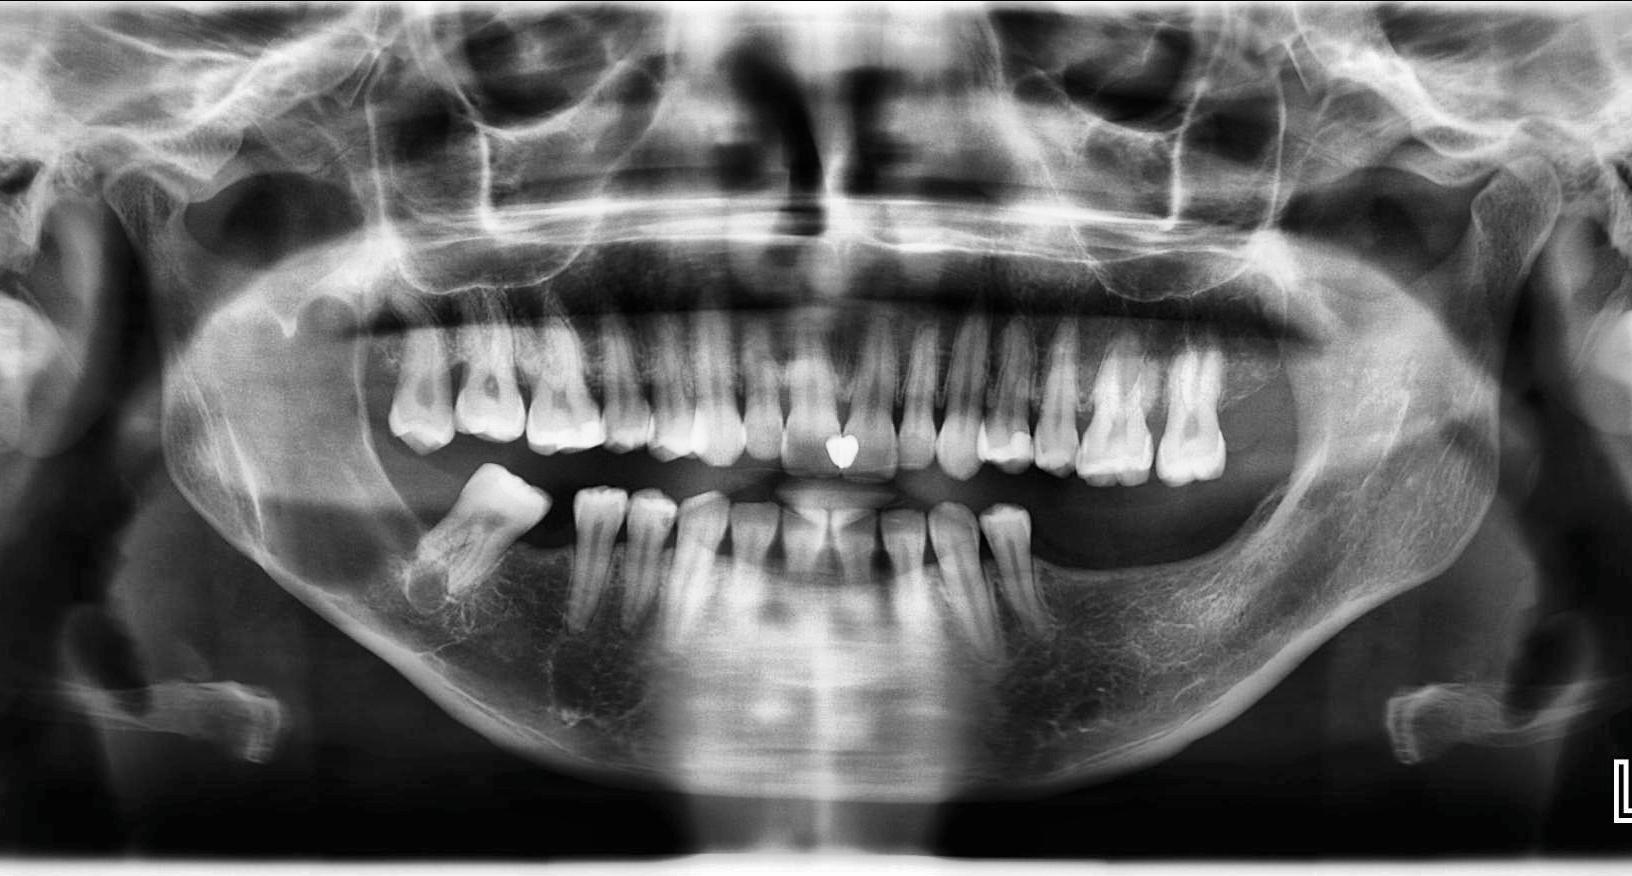keratokist: (188, 293, 450, 615)
